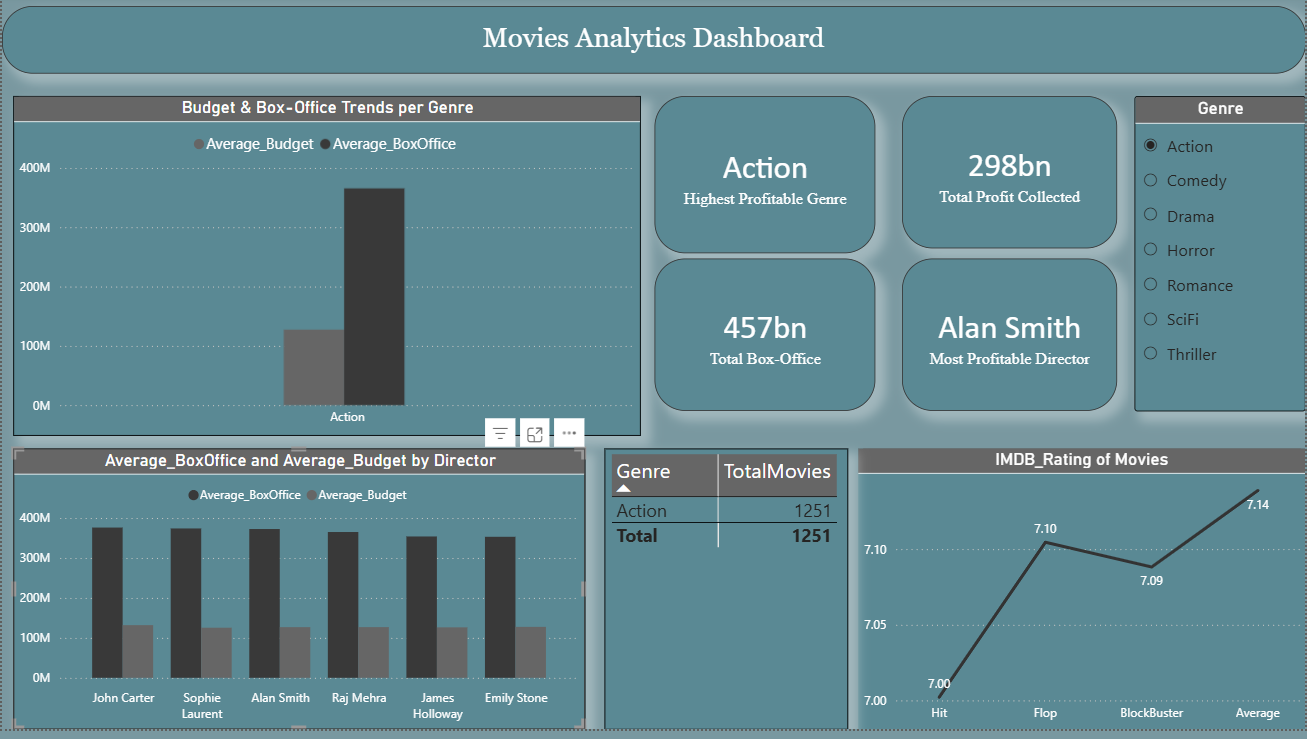

This screenshot's page, from the dashboard's own definition file:
{"tool":"powerbi","page":{"name":"Page 1","canvas":[1280,720],"ordinal":0},"visuals":[{"type":"textbox","box":[0,10,1279.8,66.3],"z":0},{"type":"clusteredColumnChart","title":"Budget & Box-Office Trends per Genre","fields":{"Category":["movies_dataset.Genre"],"Y":["movies_dataset.Average_Budget","movies_dataset.Average_BoxOffice"]},"box":[11,98.2,616,333.7],"z":1},{"type":"lineChart","title":"IMDB_Rating of Movies","fields":{"Category":["movies_dataset.Profit_Status"],"Y":["movies_dataset.Average_IMDB_Rating"]},"box":[840.5,444.2,439.3,276.1],"z":2},{"type":"card","fields":{"Values":["movies_dataset.Total_Profit"]},"box":[883.4,98.2,211,149.7],"z":3},{"type":"listSlicer","fields":{"Values":["movies_dataset.Genre"]},"box":[1111.7,98.2,168.1,309.2],"z":4},{"type":"card","fields":{"Values":["movies_dataset.Profitable_Director"]},"box":[883.4,257.7,211,149.7],"z":5},{"type":"clusteredColumnChart","fields":{"Category":["movies_dataset.Director"],"Y":["movies_dataset.Average_BoxOffice","movies_dataset.Average_Budget"]},"box":[11,444.2,562,276.1],"z":6},{"type":"tableEx","fields":{"Values":["movies_dataset.Genre","movies_dataset.TotalMovies"]},"box":[591.4,444.2,239.3,276.1],"z":7},{"type":"card","fields":{"Values":["movies_dataset.Top_Genre"]},"box":[640.5,98.2,217.2,154.6],"z":8},{"type":"card","fields":{"Values":["Sum(movies_dataset.Box_Office)"]},"box":[640.5,257.7,217.2,149.7],"z":9}]}

Visuals, with their boxes in screenshot pixels (x1, y1, x2, y2), scaled from the page's 1280x720 canvas onto the 1307x739 screenshot:
textbox: l=0, t=10, r=1306, b=78
"Budget & Box-Office Trends per Genre" clusteredColumnChart: l=11, t=101, r=640, b=443
"IMDB_Rating of Movies" lineChart: l=858, t=456, r=1306, b=738
card - movies_dataset.Total_Profit: l=902, t=101, r=1117, b=254
listSlicer - movies_dataset.Genre: l=1135, t=101, r=1306, b=418
card - movies_dataset.Profitable_Director: l=902, t=265, r=1117, b=418
clusteredColumnChart - movies_dataset.Director x movies_dataset.Average_BoxOffice: l=11, t=456, r=585, b=738
tableEx - movies_dataset.Genre x movies_dataset.TotalMovies: l=604, t=456, r=848, b=738
card - movies_dataset.Top_Genre: l=654, t=101, r=876, b=259
card - Sum(movies_dataset.Box_Office): l=654, t=265, r=876, b=418
